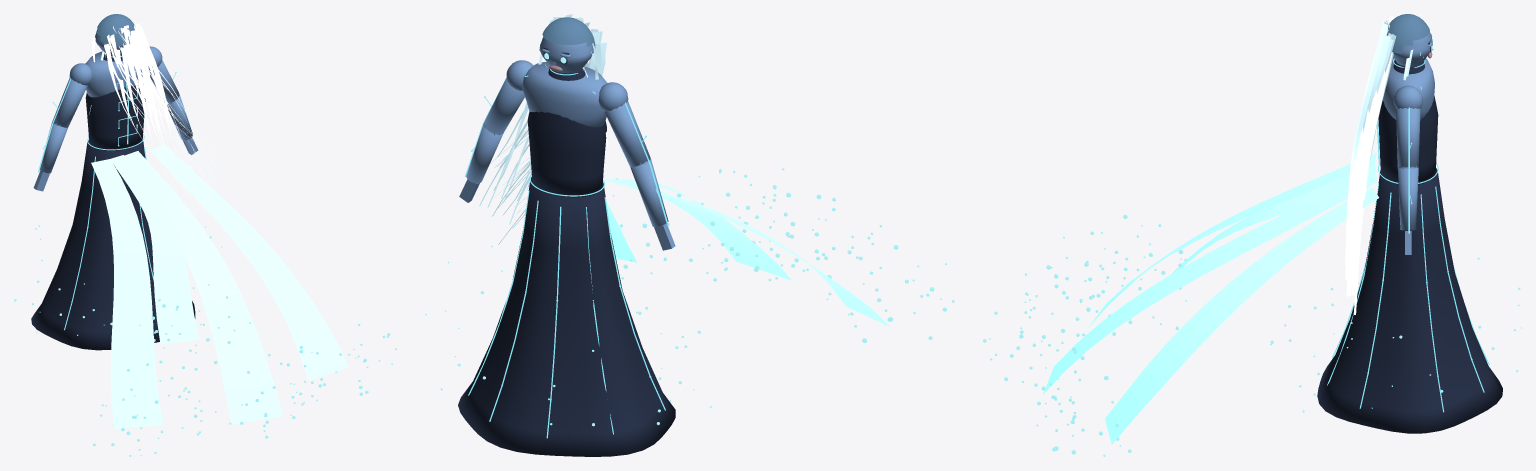
The model's file is aurora-circuit-gown.glb.
3 views of the same model, side by side, from view 1: azimuth 30°, elevation 25°; view 2: azimuth 150°, elevation 25°; view 3: azimuth 270°, elevation 25° (orthographic). The views are drawn at different scales.
Visible parts, largest first — view 1: gown_skirt, train_1, train_0, train_2, train_3, gown_bodice, shoulder_yoke, train_particles, upperarm_L, scalp, forearm_L, forearm_R (+2 smaller); view 2: gown_skirt, gown_bodice, shoulder_yoke, train_particles, train_1, upperarm_L, train_0, forearm_L, upperarm_R, head, scalp, forearm_R (+3 smaller); view 3: gown_skirt, train_2, train_1, gown_bodice, train_0, train_3, train_particles, shoulder_yoke, upperarm_R, forearm_R, scalp, hair_07 (+3 smaller).
Part boxes in pixels (<box>): gown_skirt: <box>31,138,195,350</box>; train_1: <box>120,151,282,424</box>; train_0: <box>91,159,163,428</box>; train_2: <box>150,144,348,380</box>; train_3: <box>110,155,199,344</box>; gown_bodice: <box>85,85,145,150</box>; shoulder_yoke: <box>85,51,149,97</box>; train_particles: <box>14,225,396,456</box>; upperarm_L: <box>52,78,87,127</box>; scalp: <box>96,14,135,45</box>; forearm_L: <box>40,122,67,173</box>; forearm_R: <box>167,95,192,140</box>; gown_skirt: <box>458,177,675,456</box>; gown_bodice: <box>527,111,606,197</box>; shoulder_yoke: <box>521,62,607,127</box>; train_particles: <box>425,168,954,426</box>; train_1: <box>603,178,791,280</box>; upperarm_L: <box>604,101,650,167</box>; train_0: <box>611,182,889,326</box>; forearm_L: <box>630,159,668,226</box>; upperarm_R: <box>484,77,524,134</box>; head: <box>539,37,593,73</box>; scalp: <box>542,17,595,47</box>; forearm_R: <box>466,124,503,183</box>; gown_skirt: <box>1317,168,1502,433</box>; train_2: <box>1105,187,1378,444</box>; train_1: <box>1043,169,1378,394</box>; gown_bodice: <box>1378,96,1438,184</box>; train_0: <box>1087,153,1376,328</box>; train_3: <box>1171,163,1376,274</box>; train_particles: <box>983,214,1521,456</box>; shoulder_yoke: <box>1383,57,1434,119</box>; upperarm_R: <box>1396,108,1420,167</box>; forearm_R: <box>1397,167,1418,230</box>; scalp: <box>1386,14,1429,53</box>; hair_07: <box>1345,27,1387,266</box>.
Size of the model in its own units: 1.69 by 1.71 by 2.25.
